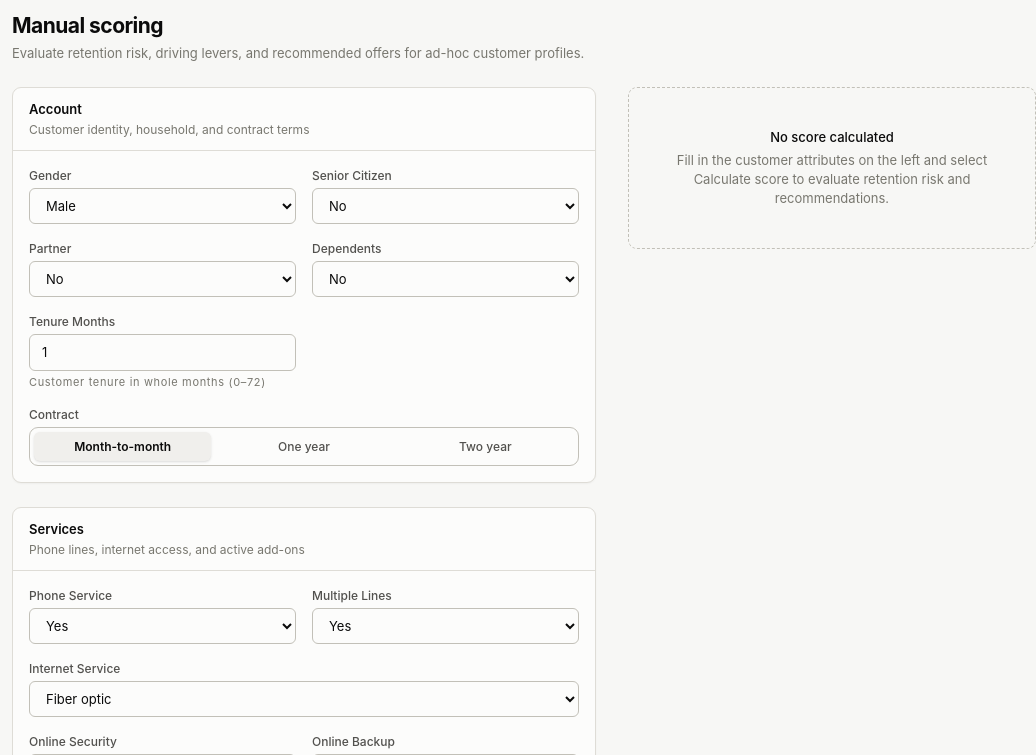
ScorePage and Manual Scoring Form › Rule B: Phone Service === "No" forces Multiple Lines to "No phone service" and disables it
The image size is (1036, 755).
Step 1. Select "No" in the dropdown labelled "Phone Service" → (162, 626), box [29,608,296,644]
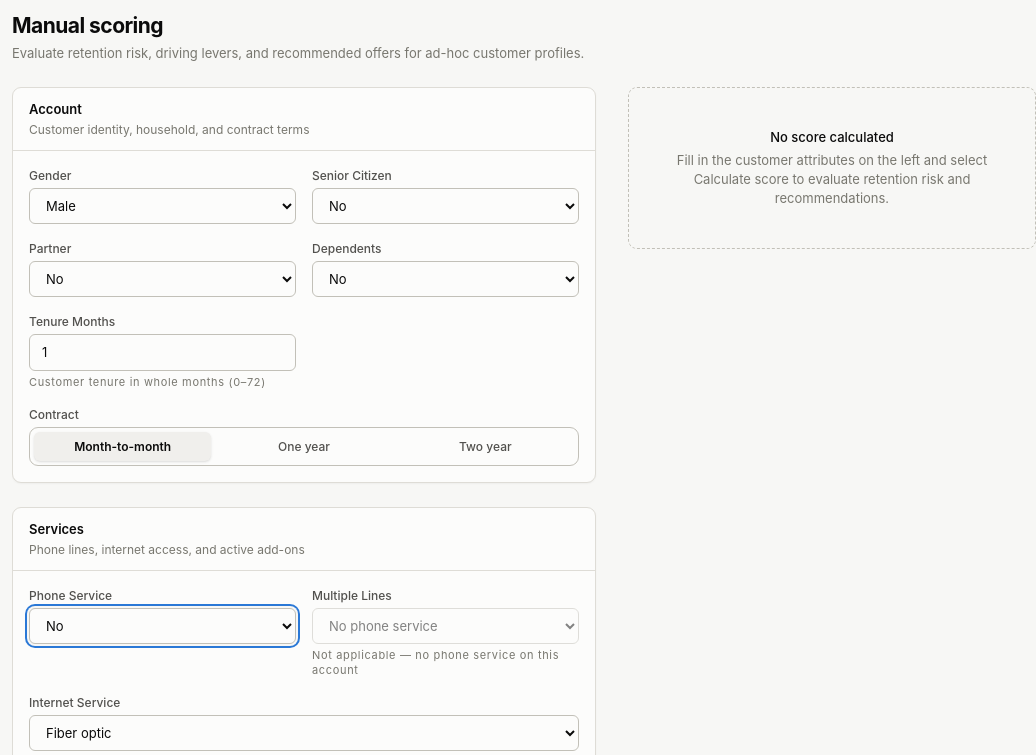
Check: the dropdown labelled "Multiple Lines" is disabled, box [312,608,579,644]
Check: the dropdown labelled "Multiple Lines" shows "No phone service", box [312,608,579,644]
